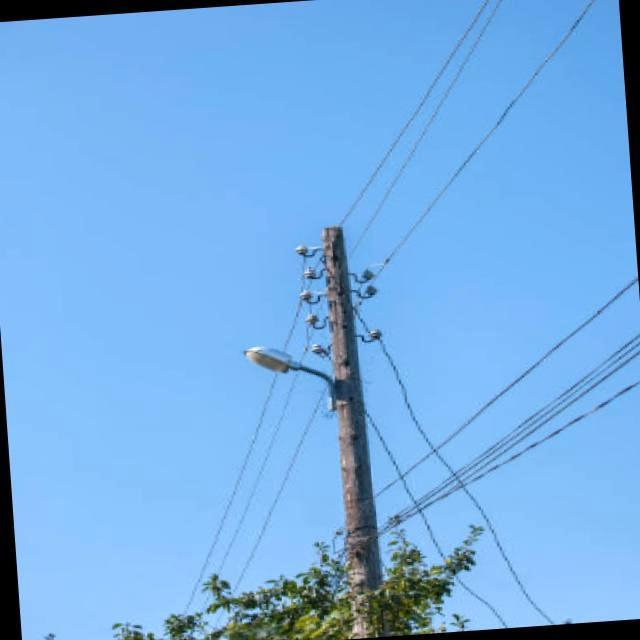light_pole: (279, 499, 423, 640)
